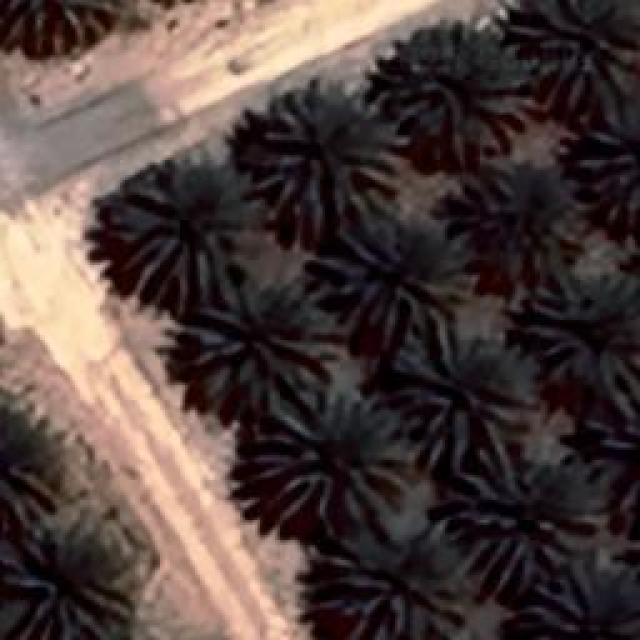PalmTree: (35, 113, 121, 458), (121, 49, 578, 113), (370, 19, 540, 152), (245, 88, 400, 230), (312, 210, 478, 340), (250, 390, 412, 520), (182, 272, 336, 406), (388, 320, 530, 462), (320, 512, 470, 638), (460, 450, 595, 580), (110, 157, 245, 280), (5, 528, 130, 638), (464, 162, 582, 276), (528, 268, 638, 388), (530, 565, 640, 640), (580, 100, 635, 225), (0, 0, 118, 54), (587, 380, 635, 508)
